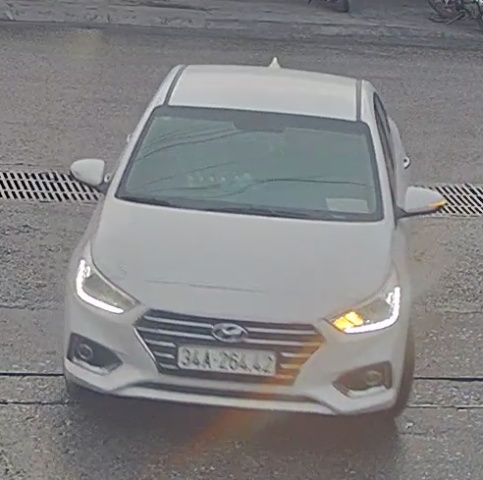vehicle plate: (170, 338, 282, 379)
